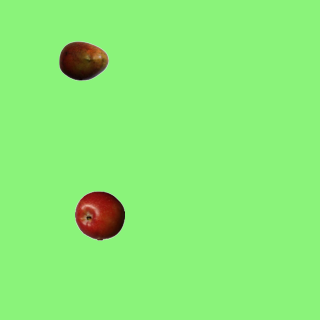Apple Braeburn: (74, 190, 124, 240)
Mango Red: (58, 35, 108, 85)
